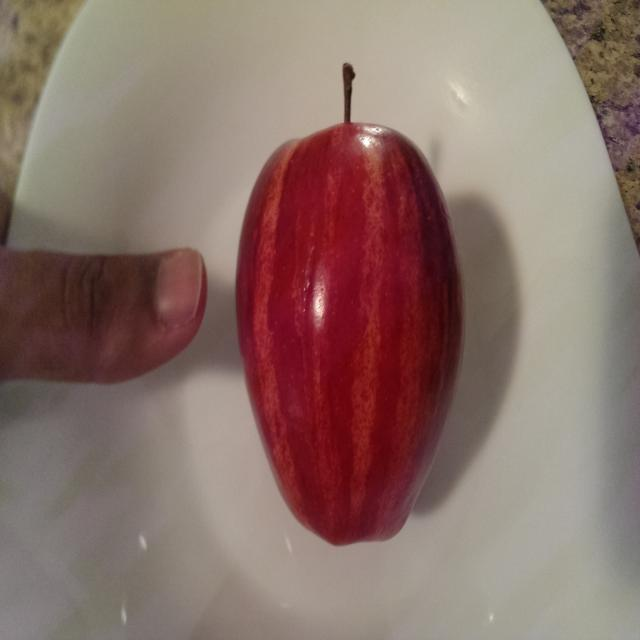Apple: (224, 51, 478, 559)
Finger: (45, 234, 214, 397)
